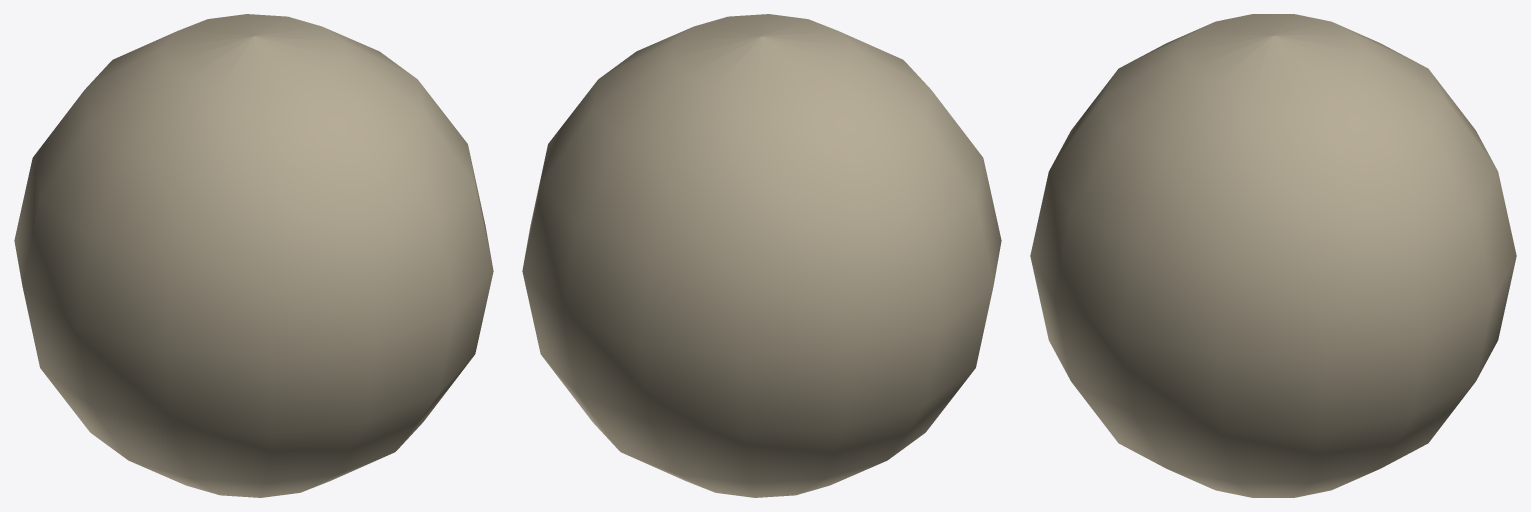
File: bombard_ball.fbx
3 views of the same model, side by side, from view 1: azimuth 30°, elevation 25°; view 2: azimuth 150°, elevation 25°; view 3: azimuth 270°, elevation 25° (orthographic).
Visible parts, largest first — view 1: bombard_ball; view 2: bombard_ball; view 3: bombard_ball.
Boxes of the visible parts, <box> form: bombard_ball: <box>14,14,493,497</box>; bombard_ball: <box>522,14,1001,497</box>; bombard_ball: <box>1030,14,1516,497</box>.
Size of the model in its own units: 0.0331 by 0.034 by 0.034.
